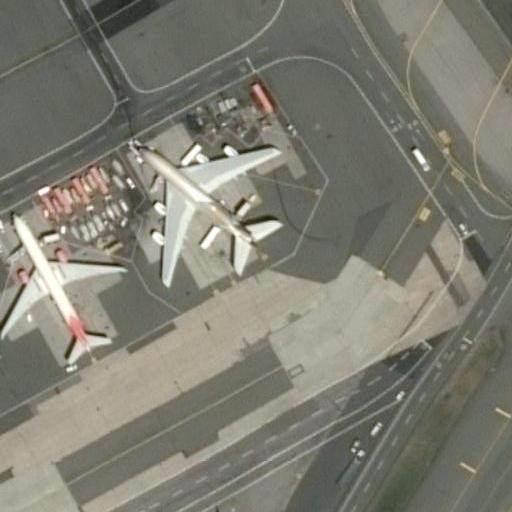Aircraft: (127, 124, 291, 288), (0, 206, 124, 369)
